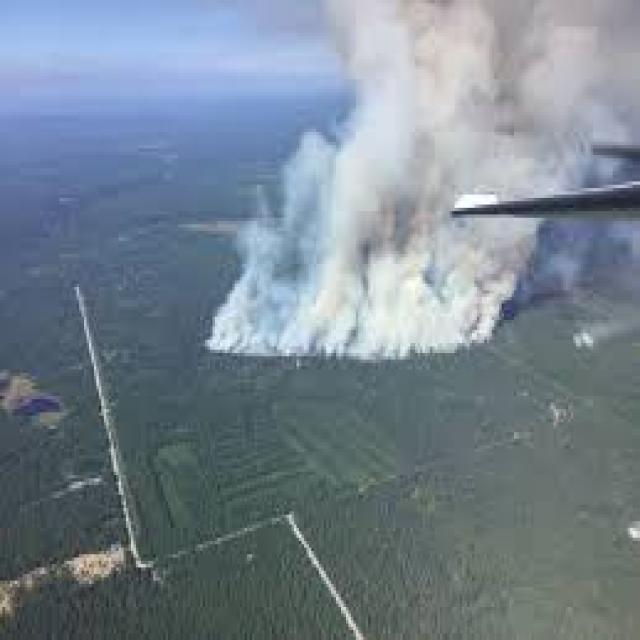Smoke: (208, 150, 518, 354), (321, 4, 640, 149)
